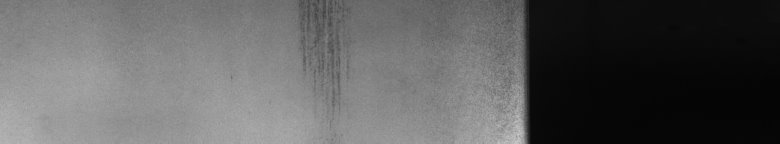ka: (296, 4, 349, 107)
